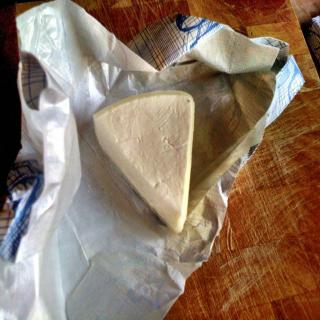Cheese: (91, 89, 198, 233)
